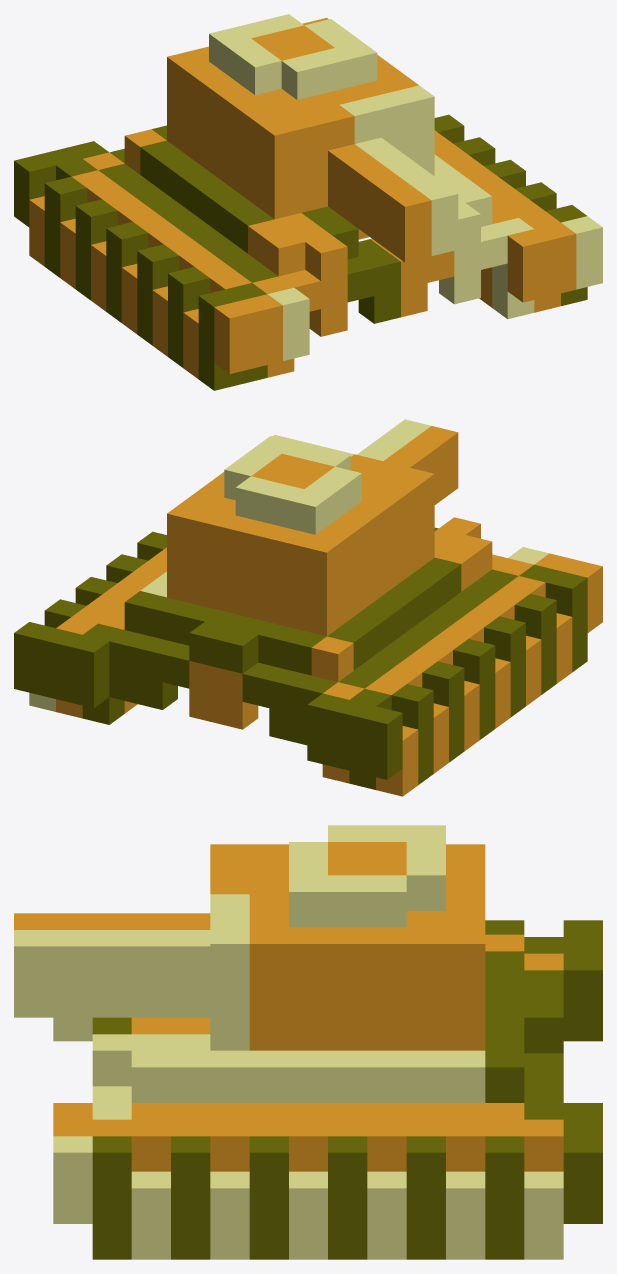
The model's file is YellowTankT4.fbx.
3 views of the same model, one above another, from view 1: azimuth 30°, elevation 25°; view 2: azimuth 150°, elevation 25°; view 3: azimuth 270°, elevation 25° (orthographic). The views are drawn at different scales.
Visible parts, largest first — view 1: BC1.006; view 2: BC1.006; view 3: BC1.006.
Boxes of the visible parts, x1,y1,x2,y2 form: BC1.006: [14, 14, 602, 390]; BC1.006: [14, 419, 602, 796]; BC1.006: [14, 825, 602, 1259].
Bounding box in the file's own units: 1400 × 800 × 1500.
